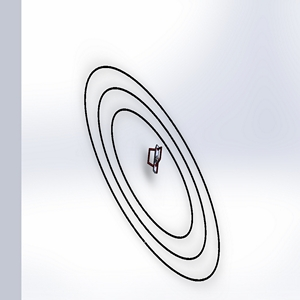circle: (74, 61, 239, 288)
submarine: (144, 139, 165, 181)
